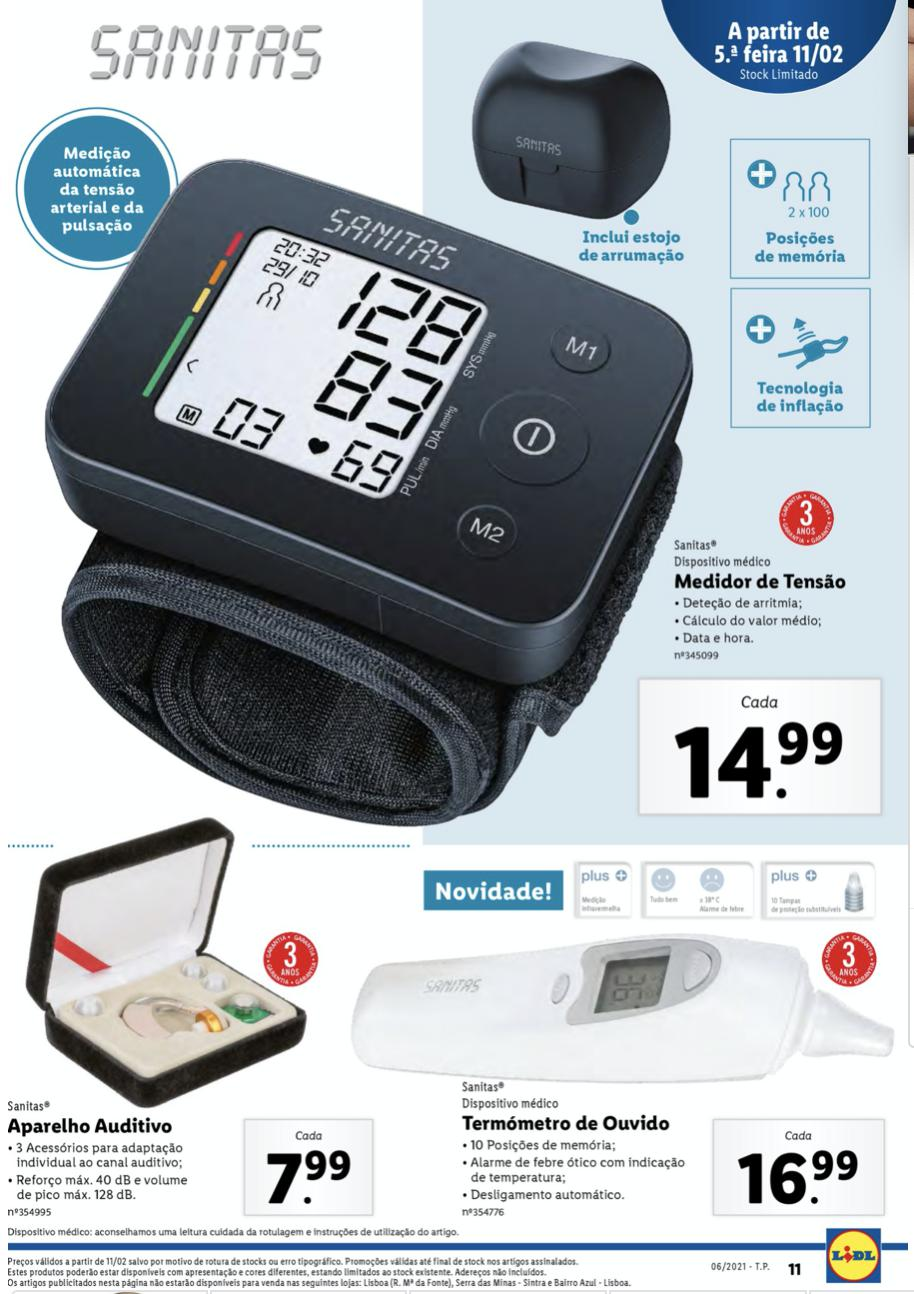name: (671, 568, 853, 600), (457, 1112, 678, 1137), (7, 1115, 179, 1141)
price: (665, 707, 858, 815), (731, 1139, 873, 1215), (258, 1141, 365, 1213)
product: (11, 102, 902, 852), (415, 913, 905, 1241), (8, 847, 378, 1223)
